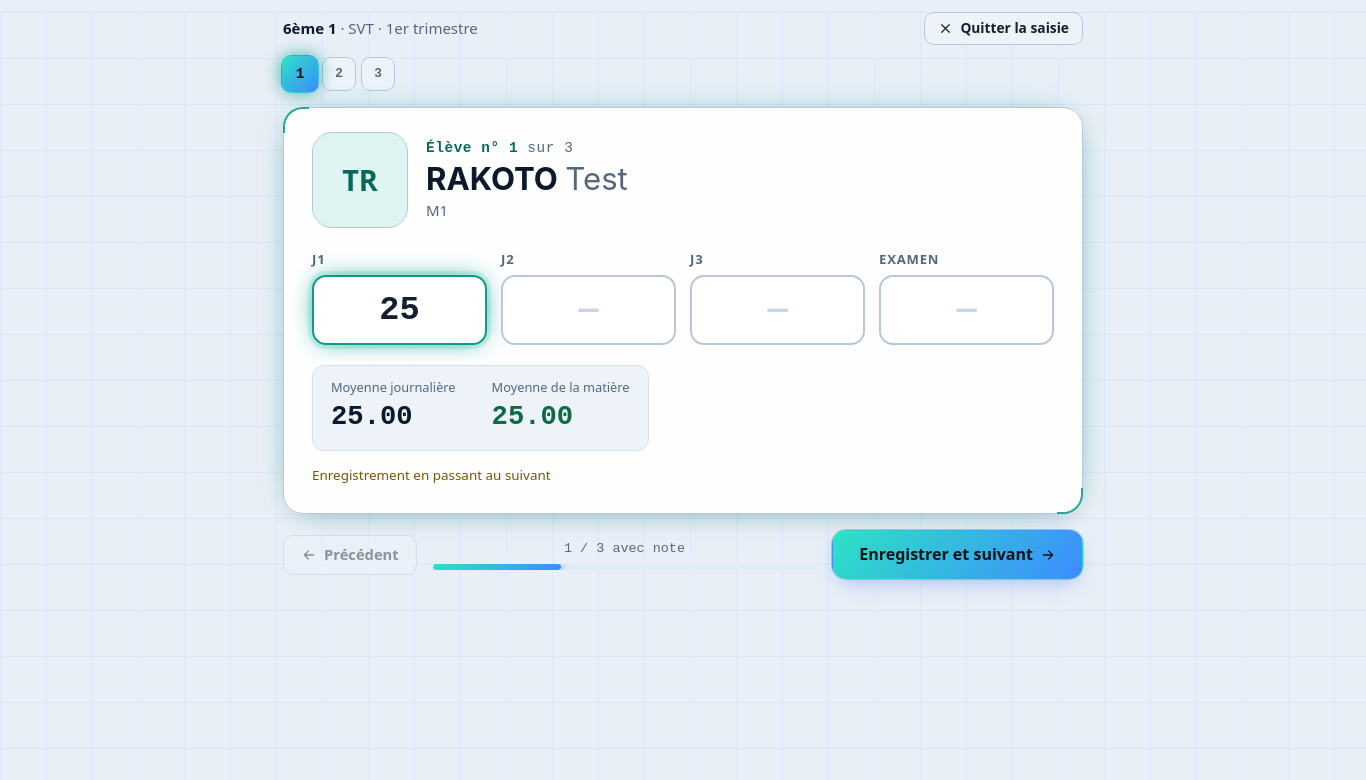
it: une note hors de 0–20 bloque le passage au suivant
Click the button "Enregistrer et suivant". click: (958, 555)
box: [832,530,1083,579]
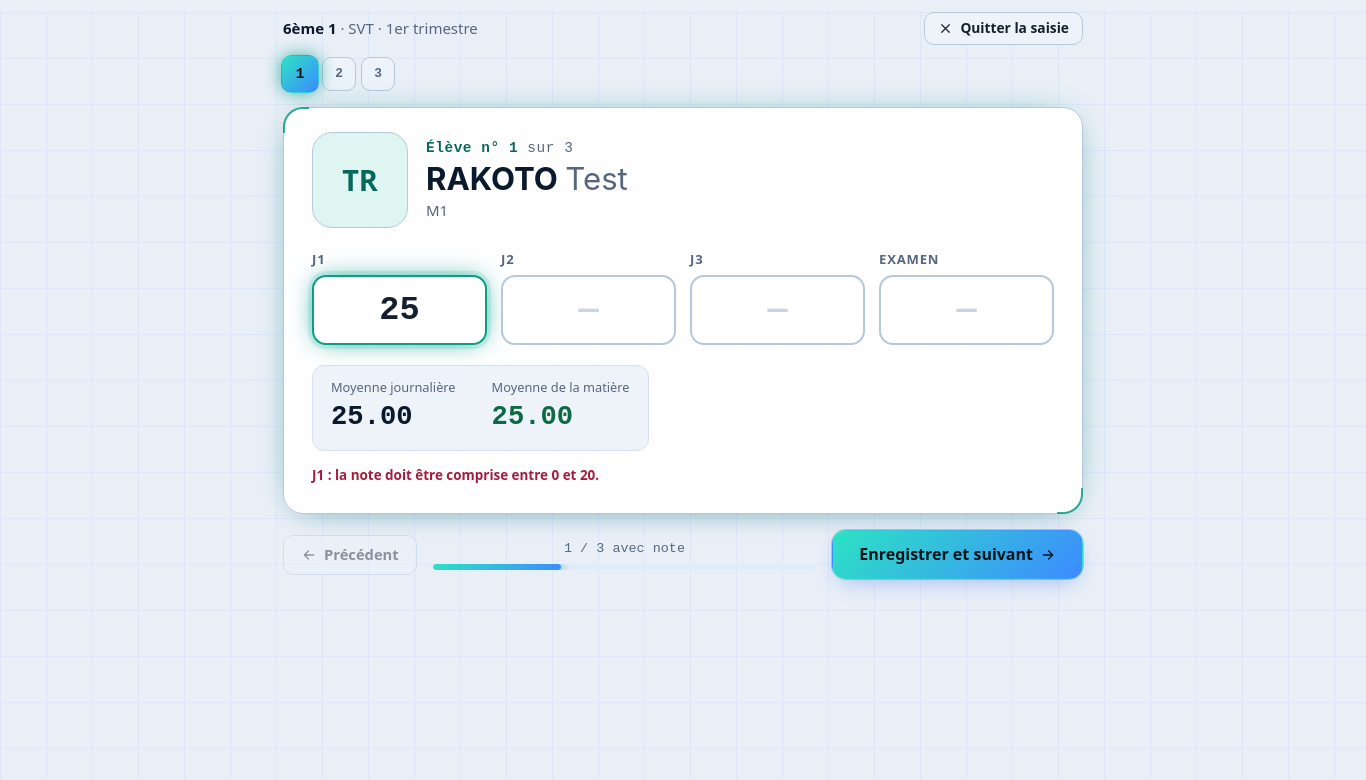
Expected: the text "Élève n° 1 sur 3" is shown, [426,140,573,156]
Expected: the text "J1 : la note doit être comprise entre 0 et 20." is shown, [312,466,599,484]
